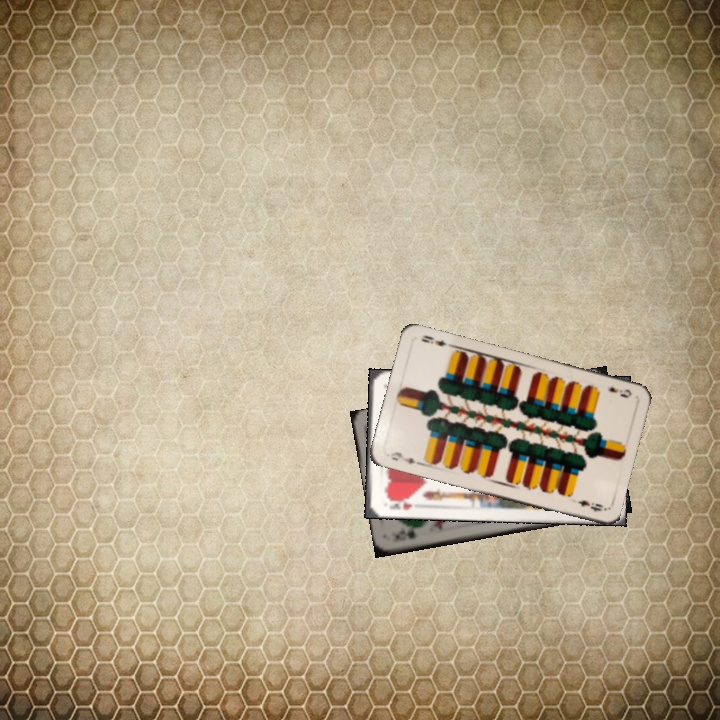E9: (386, 448, 423, 467), (604, 383, 634, 400)
GK: (391, 526, 419, 542)
HK: (383, 494, 415, 512)
